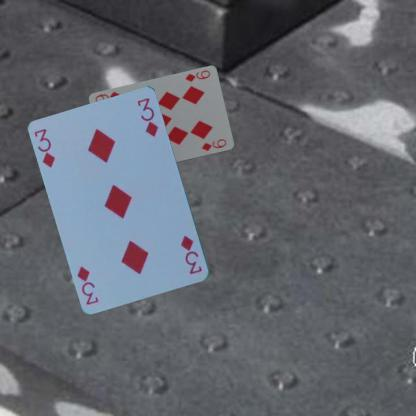3d: (178, 232, 203, 277), (31, 126, 56, 169)
9d: (182, 68, 211, 83)
